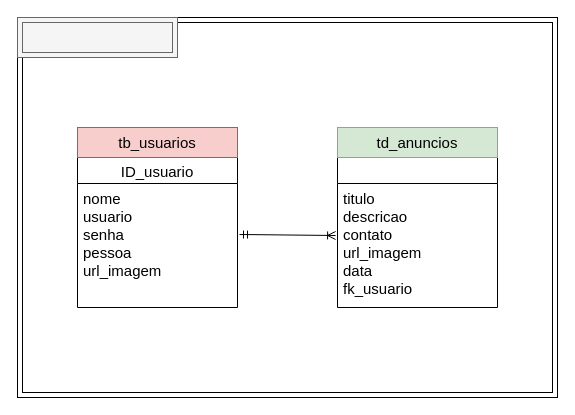
The diagram is 575 pixels wide and 415 high, and some of its shapes have lost their labels. Here are the shapes that lost their labels. From the top down, the box of each, then its label:
(16, 16, 178, 58): Projeto Classificado
(336, 156, 498, 308): ID_anuncio
